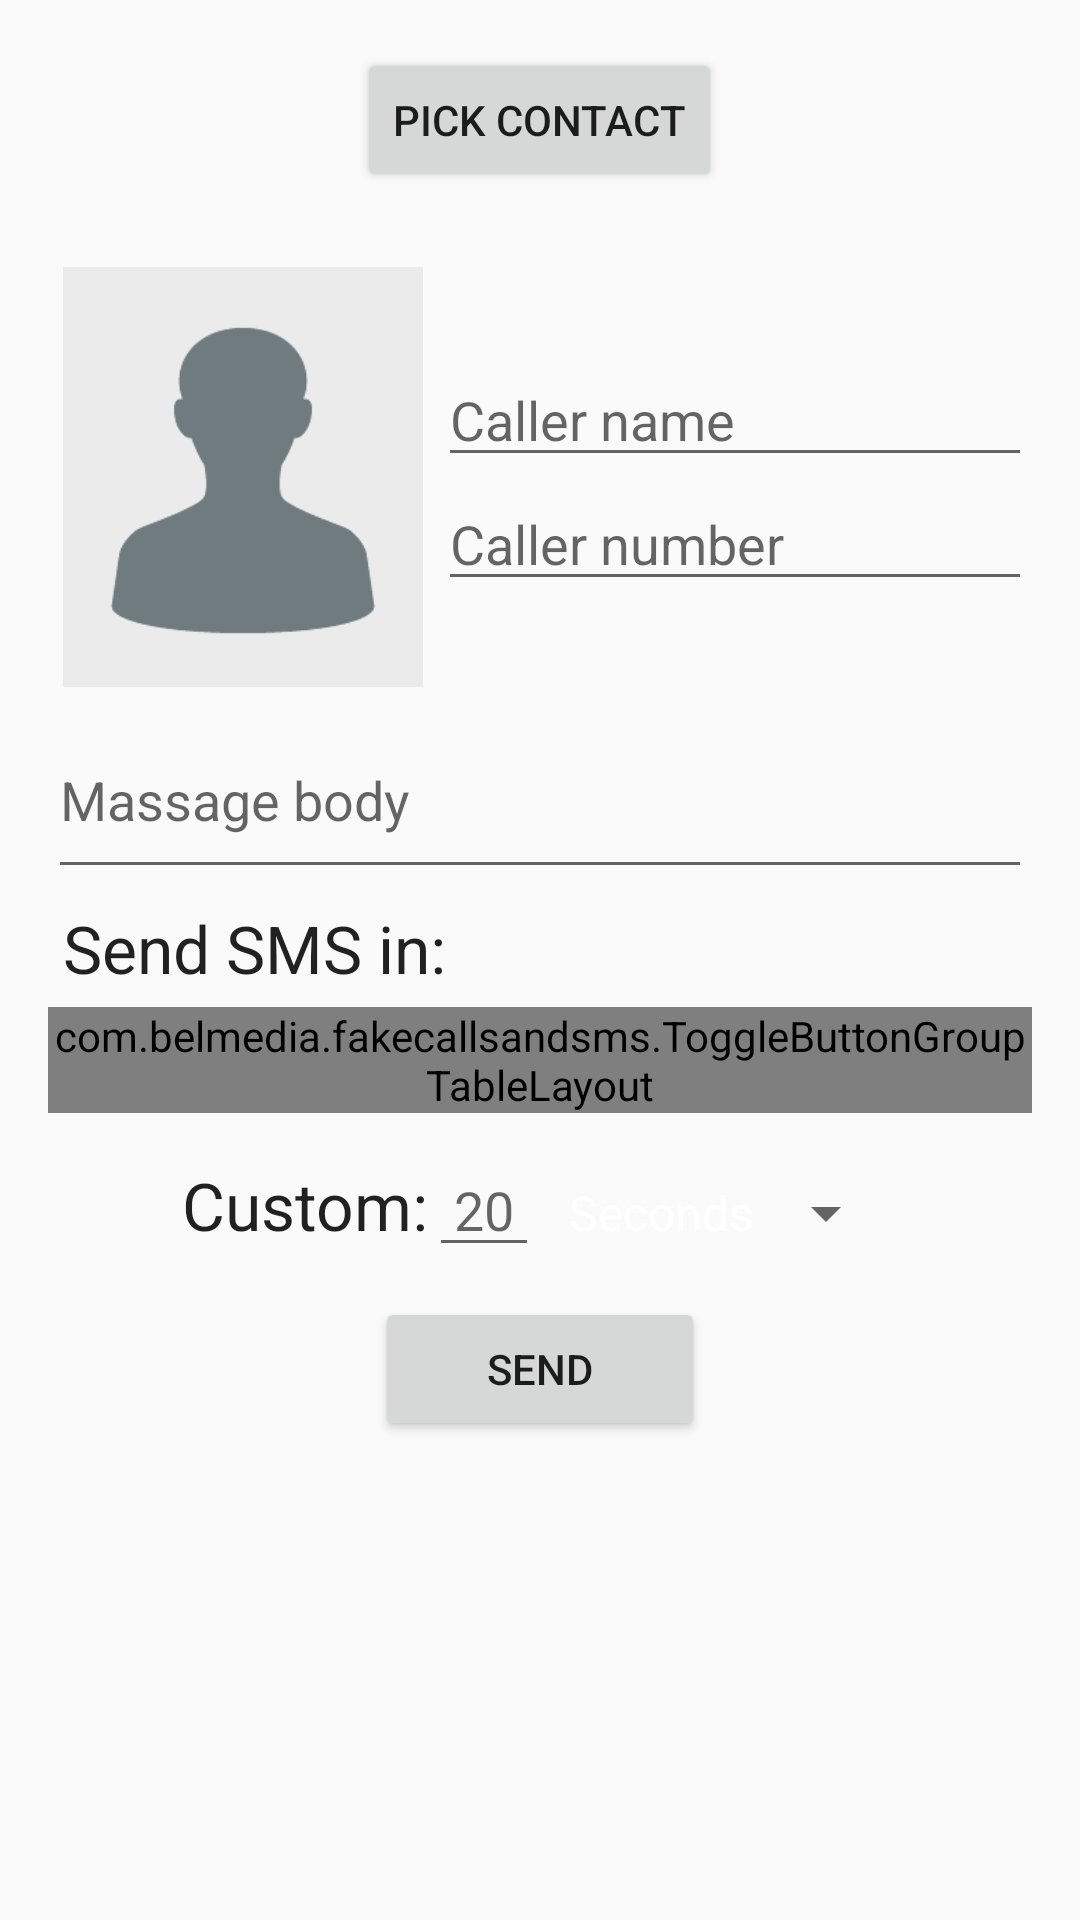

Icons on this 1080 × 1920 Android screen, each with the point to tap as (x,y):
anonymous: (243,480)
